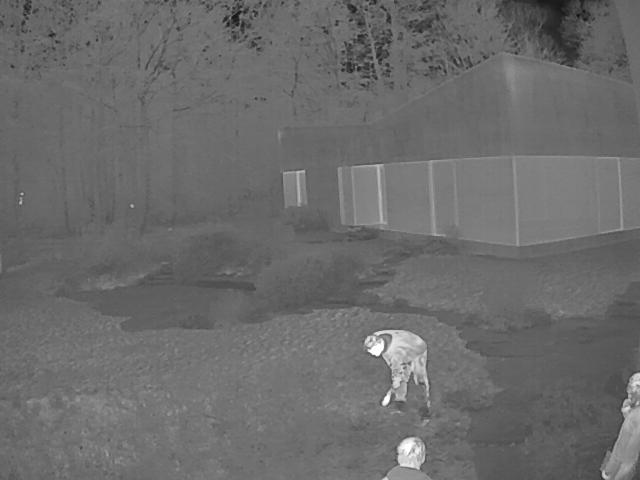person: (366, 328, 432, 420), (600, 373, 640, 479), (383, 438, 433, 479)
